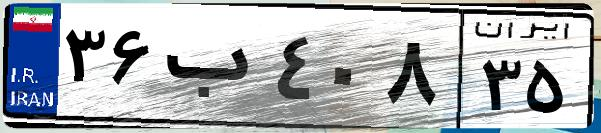0: (330, 28, 385, 110)
3: (57, 26, 110, 100), (475, 38, 525, 113)
4: (270, 28, 330, 110)
5: (525, 38, 570, 115)
6: (110, 28, 158, 98)
8: (385, 28, 445, 110)
ب: (158, 20, 270, 120)
